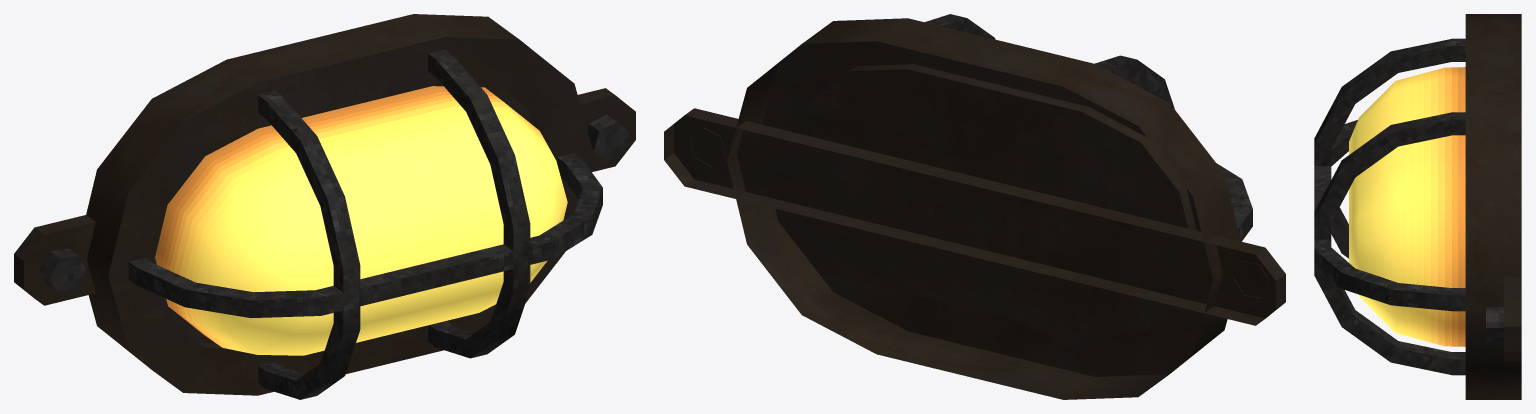
The model's file is lamp_2_2_on.glb.
3 views of the same model, side by side, from view 1: azimuth 30°, elevation 25°; view 2: azimuth 150°, elevation 25°; view 3: azimuth 270°, elevation 25° (orthographic). The views are drawn at different scales.
Visible parts, largest first — view 1: lamp_2_2_on; view 2: lamp_2_2_on; view 3: lamp_2_2_on.
Boxes of the visible parts, x1,y1,x2,y2 form: lamp_2_2_on: [14, 14, 635, 399]; lamp_2_2_on: [664, 14, 1285, 399]; lamp_2_2_on: [1314, 14, 1521, 399].
Bounding box in the file's own units: 0.36 × 0.176 × 0.119.
3 materials, 3 textured.
